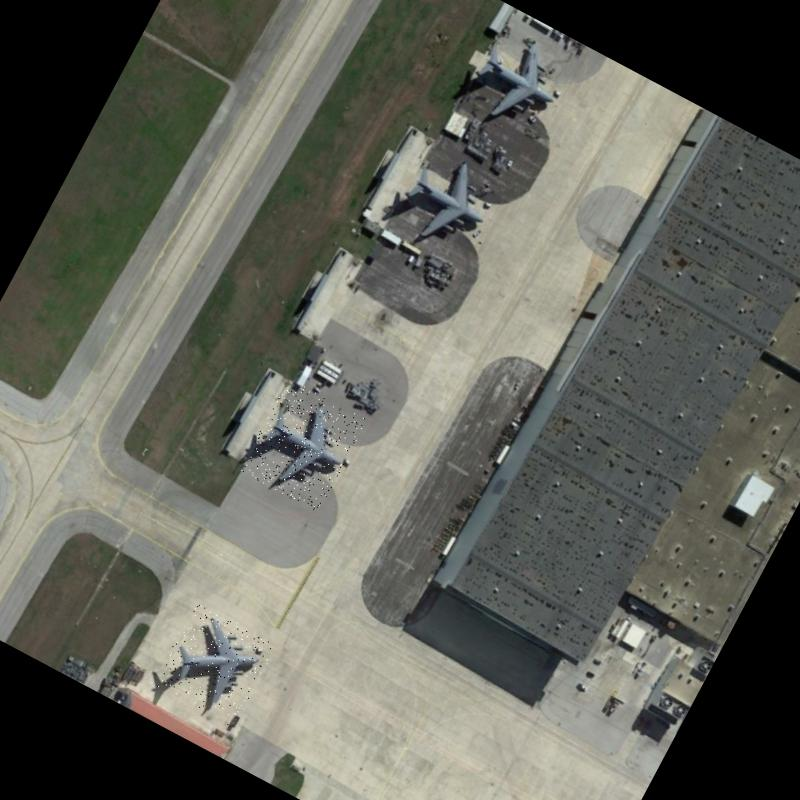A3: (452, 15, 588, 149), (382, 133, 514, 268), (238, 378, 367, 512), (151, 600, 277, 728)
